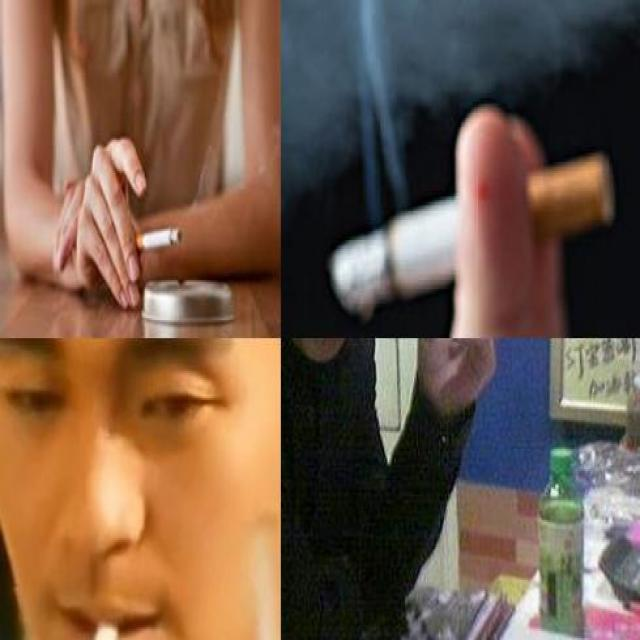cigarette: (326, 151, 618, 320), (60, 604, 129, 638), (132, 226, 182, 250)
